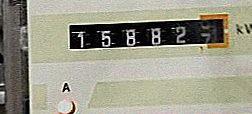1: (76, 28, 85, 47)
2: (174, 23, 187, 43)
5: (98, 27, 112, 47)
7: (199, 29, 211, 41)
8: (148, 24, 162, 45), (124, 26, 137, 46)
screen: (63, 10, 233, 56)
